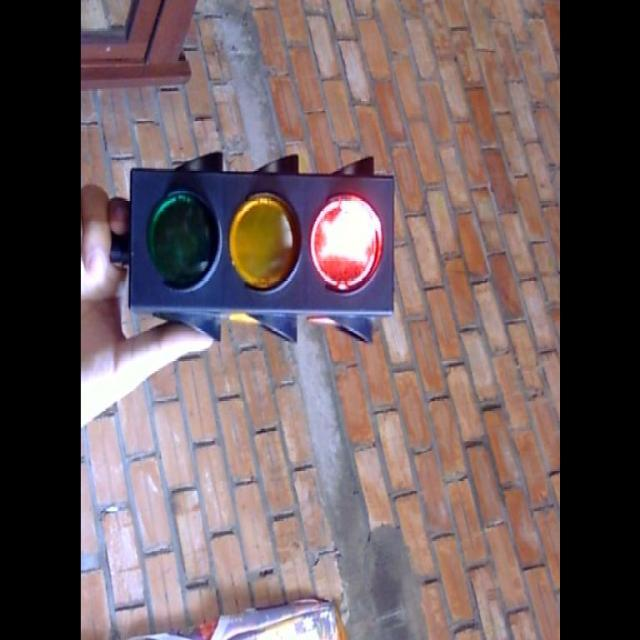red light: (308, 184, 390, 304)
